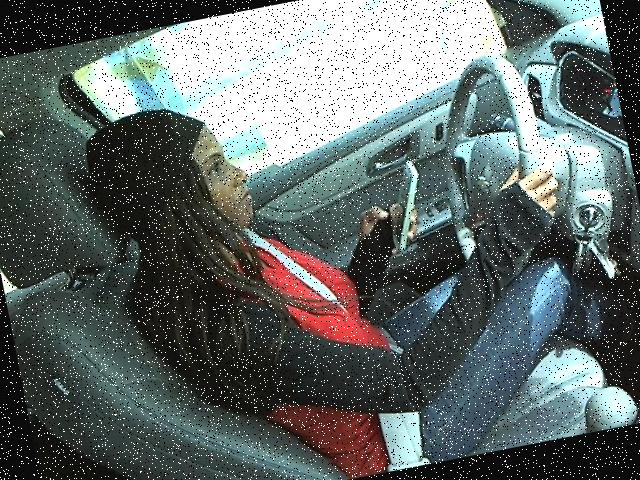c1 - Texting: (71, 32, 610, 457)
